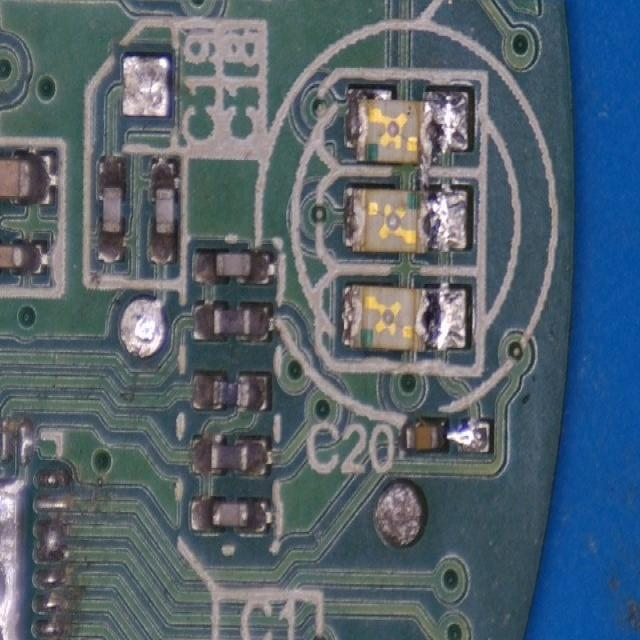Incorrect_installation: (344, 89, 470, 165), (341, 186, 469, 254), (342, 283, 468, 352), (405, 417, 490, 453)
Short_circuit: (419, 89, 469, 251), (417, 417, 490, 453), (32, 519, 69, 564)
